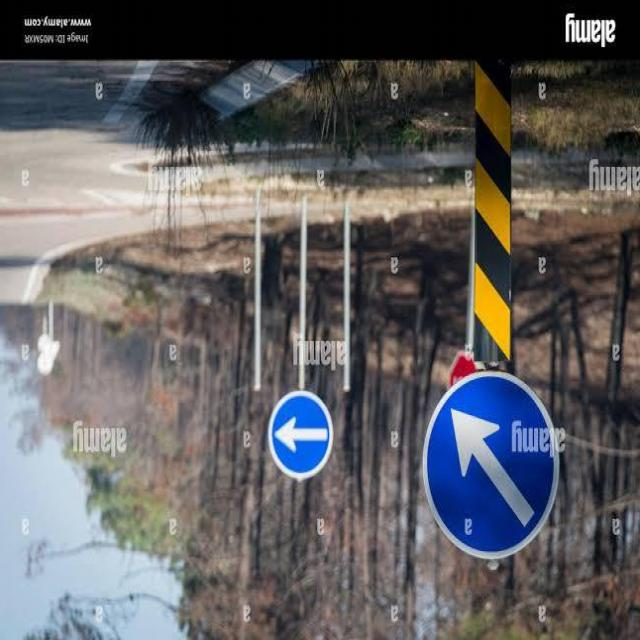Turn Left: (264, 382, 335, 479)
